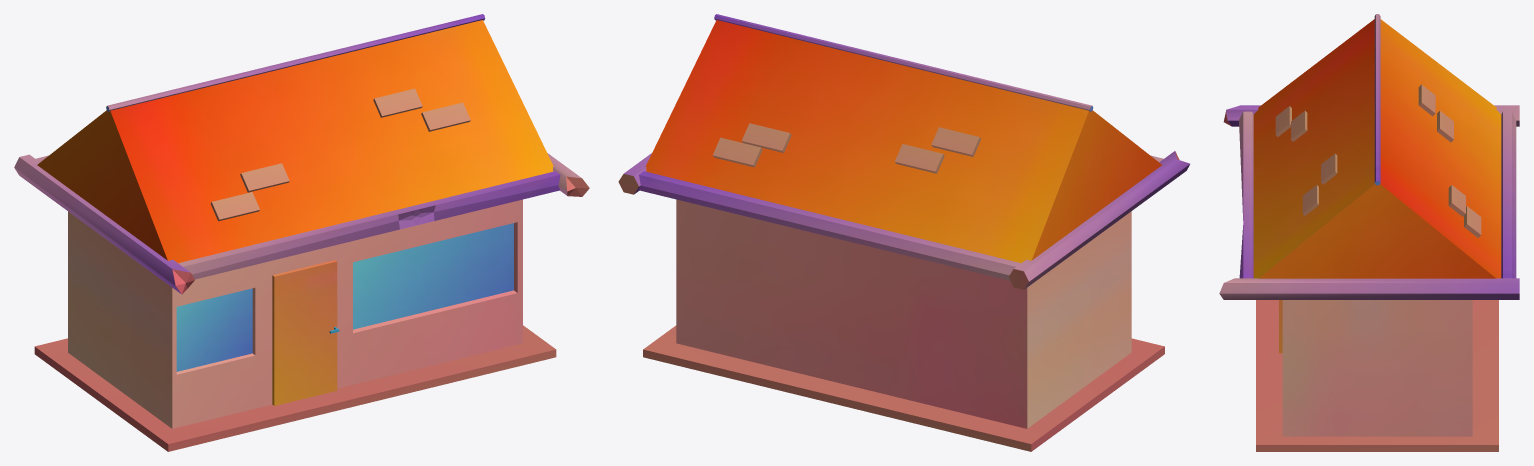
File: House_3.glb
3 views of the same model, side by side, from view 1: azimuth 30°, elevation 25°; view 2: azimuth 150°, elevation 25°; view 3: azimuth 270°, elevation 25° (orthographic). The views are drawn at different scales.
Visible parts, largest first — view 1: House_3; view 2: House_3; view 3: House_3.
Boxes of the visible parts, <box> form: House_3: <box>14,14,589,451</box>; House_3: <box>618,14,1189,451</box>; House_3: <box>1219,14,1519,451</box>.
Bounding box in the file's own units: 720 × 495 × 501.
1 material, 1 textured.
